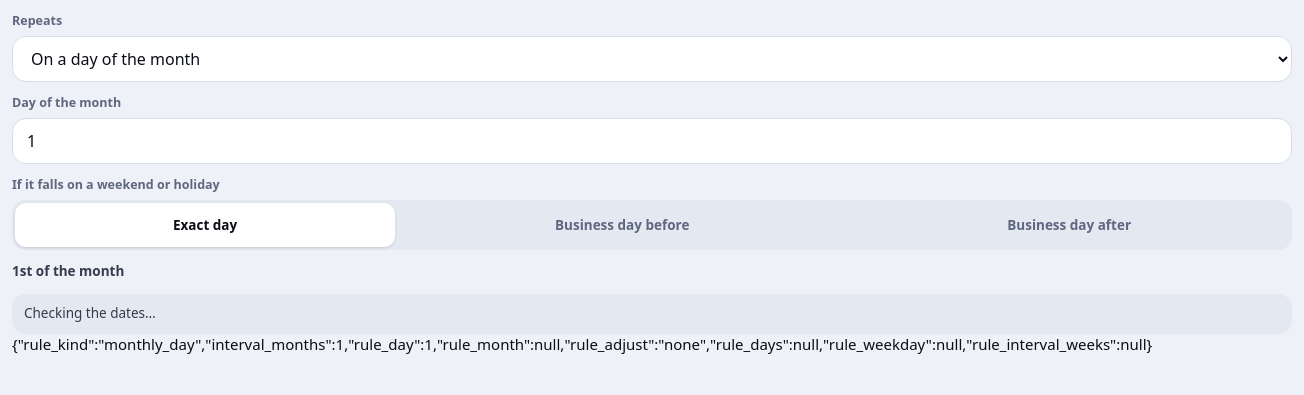
Scenario: an out-of-range number is refused with a hint and the last good value is kept
Replace the text in the field labelled "Day of the month" with "32": (652, 141) [12,118,1292,164]
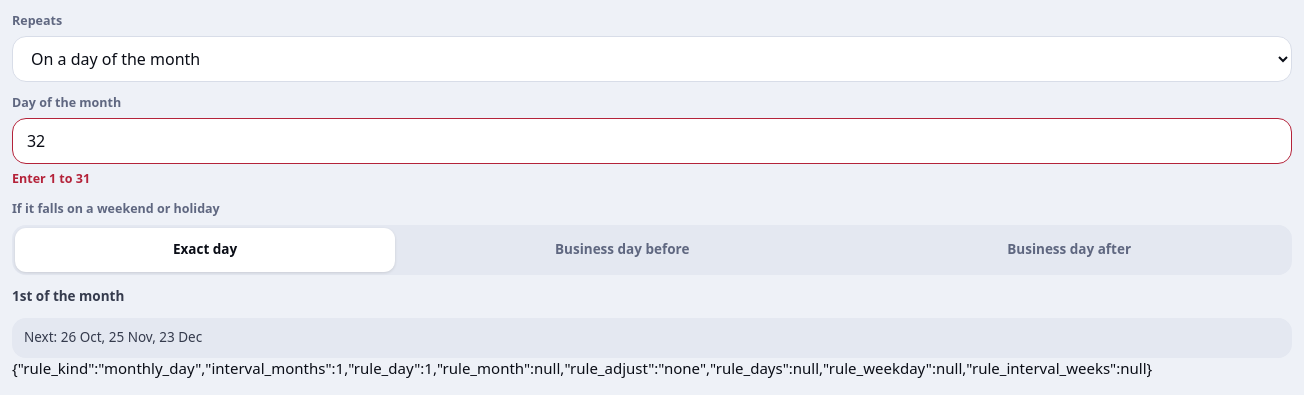
Now the text "Enter 1 to 31" is shown, box [12,170,90,187]
